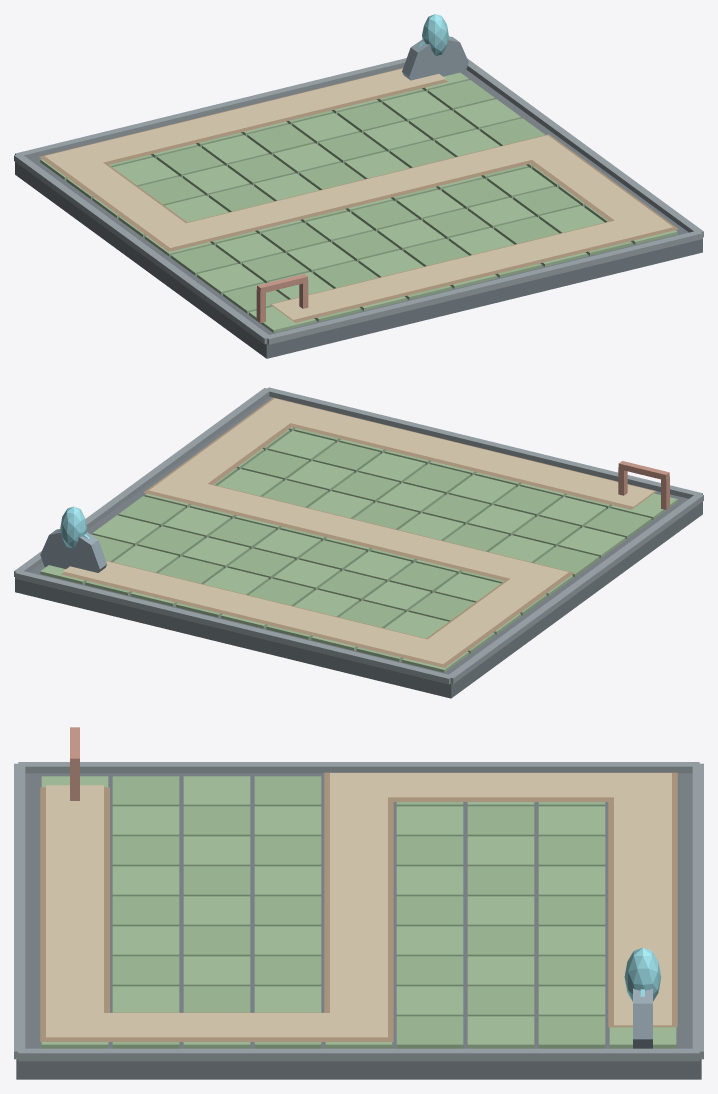
File: arena_prototipo.glb
3 renders of one model, top to bottom at view 1: azimuth 30°, elevation 25°; view 2: azimuth 150°, elevation 25°; view 3: azimuth 270°, elevation 25°, orthographic. The views are drawn at different scales.
Visible parts, largest first — view 1: Grass_Tiles_A, Road_Surface, Grass_Tiles_B, Prototype_Foundation, Road_Edge, Prototype_Rim_South, Prototype_Rim_North, Prototype_Rim_West, Prototype_Rim_East, Core_Base, Core_Crystal; view 2: Grass_Tiles_A, Road_Surface, Grass_Tiles_B, Prototype_Foundation, Road_Edge, Prototype_Rim_North, Prototype_Rim_South, Prototype_Rim_West, Prototype_Rim_East, Core_Base, Core_Crystal; view 3: Road_Surface, Grass_Tiles_A, Grass_Tiles_B, Prototype_Foundation, Road_Edge, Prototype_Rim_East, Prototype_Rim_West, Prototype_Rim_North, Prototype_Rim_South, Core_Crystal, Core_Base.
Boxes of the visible parts, box(x1,y1,x2,y2) form: Grass_Tiles_A: box(40, 72, 677, 332); Road_Surface: box(45, 68, 672, 319); Grass_Tiles_B: box(66, 80, 632, 321); Prototype_Foundation: box(15, 70, 702, 358); Road_Edge: box(39, 68, 678, 322); Prototype_Rim_South: box(265, 230, 702, 344); Prototype_Rim_North: box(15, 58, 406, 158); Prototype_Rim_West: box(14, 154, 268, 344); Prototype_Rim_East: box(466, 58, 703, 237); Core_Base: box(402, 36, 468, 80); Core_Crystal: box(422, 14, 448, 55); Grass_Tiles_A: box(40, 427, 677, 672); Road_Surface: box(63, 398, 654, 663); Grass_Tiles_B: box(85, 428, 651, 661); Prototype_Foundation: box(15, 396, 702, 698); Road_Edge: box(61, 397, 656, 667); Prototype_Rim_North: box(15, 571, 451, 684); Prototype_Rim_South: box(265, 387, 702, 498); Prototype_Rim_West: box(447, 494, 703, 683); Prototype_Rim_East: box(14, 388, 270, 576); Core_Base: box(40, 529, 106, 572); Core_Crystal: box(60, 506, 87, 548); Road_Surface: box(46, 773, 671, 1037); Grass_Tiles_A: box(41, 776, 676, 1048); Grass_Tiles_B: box(112, 776, 605, 1048); Prototype_Foundation: box(16, 773, 701, 1079); Road_Edge: box(40, 772, 677, 1041); Prototype_Rim_East: box(18, 1048, 699, 1061); Prototype_Rim_West: box(18, 762, 699, 773); Prototype_Rim_North: box(692, 763, 703, 1059); Prototype_Rim_South: box(14, 763, 25, 1059); Core_Crystal: box(624, 947, 661, 1001); Core_Base: box(633, 988, 652, 1048).
Size of the model in its own units: 9.72 by 1.78 by 9.72.
